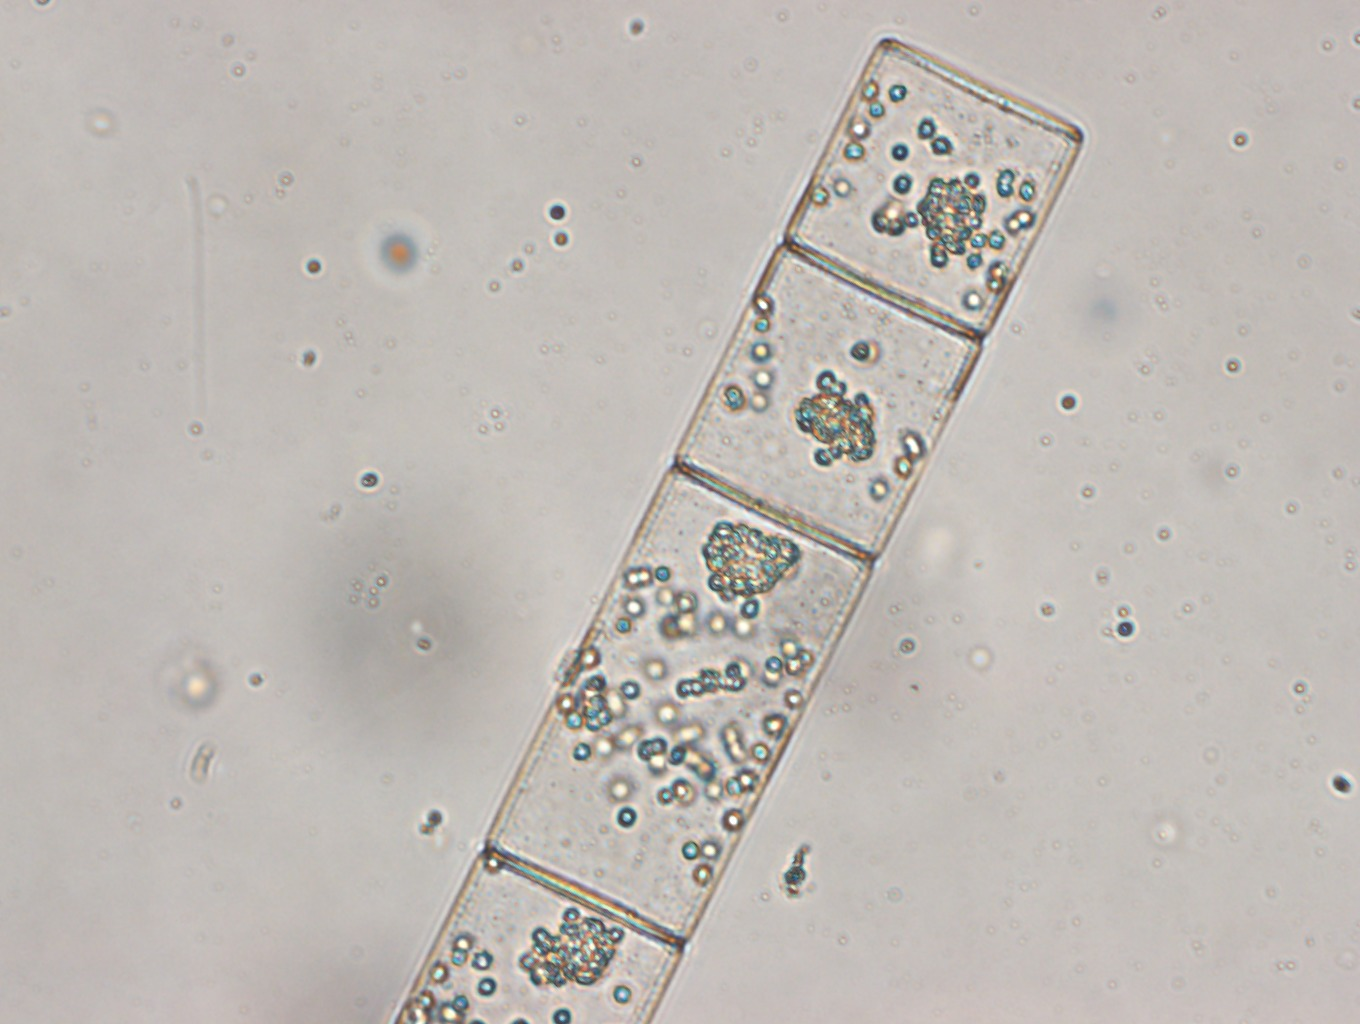guinardia flaccida: (390, 35, 1086, 1024)
